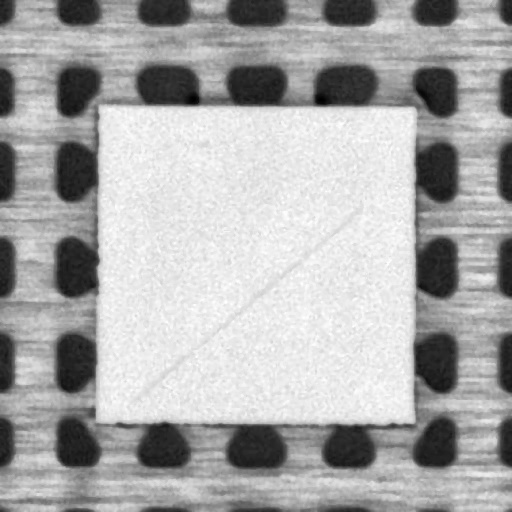DIE_CRACK: (130, 209, 359, 402)
